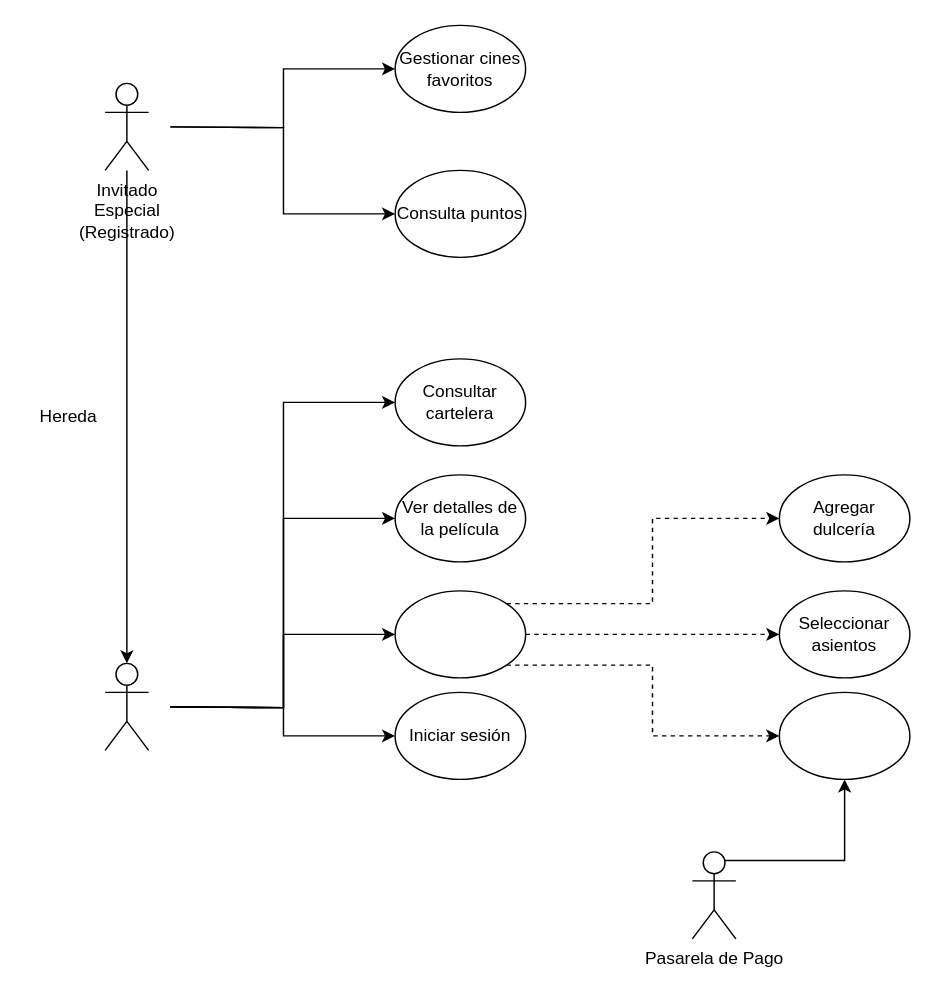
Some shapes in this 935 by 995 pixel diagram are drawn without their labels. The shapes that lost their labels are listed below. From the top down, each one's centre as x and y in pixels, then its label:
[460,633]: Comprar boletos
[126,706]: Usuario "Guest"
[844,735]: Procesar pagos
